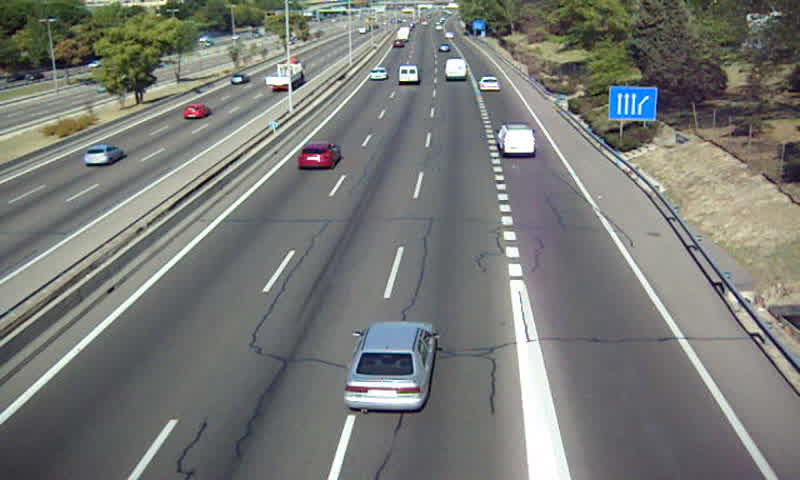car: (345, 323, 438, 409), (297, 142, 340, 169), (478, 76, 501, 92), (368, 66, 388, 79)
van: (498, 124, 536, 156), (444, 58, 468, 79), (397, 64, 419, 86)
